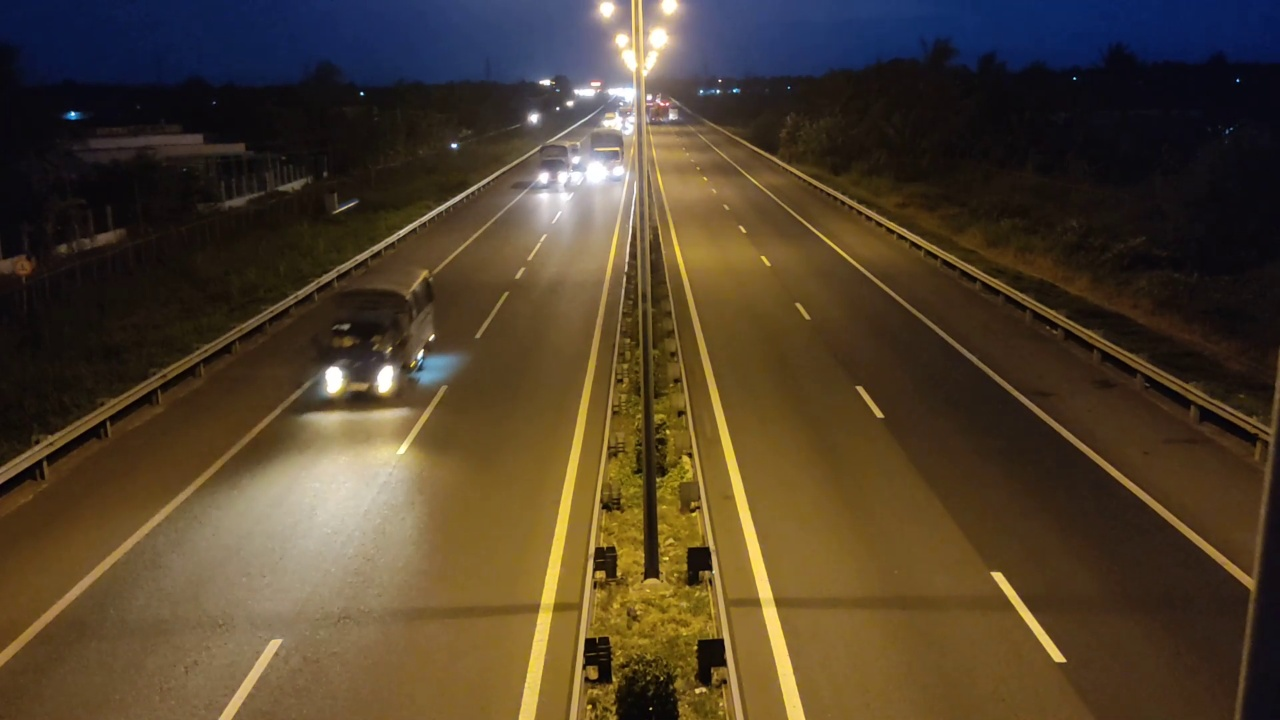truck: (317, 260, 438, 409)
